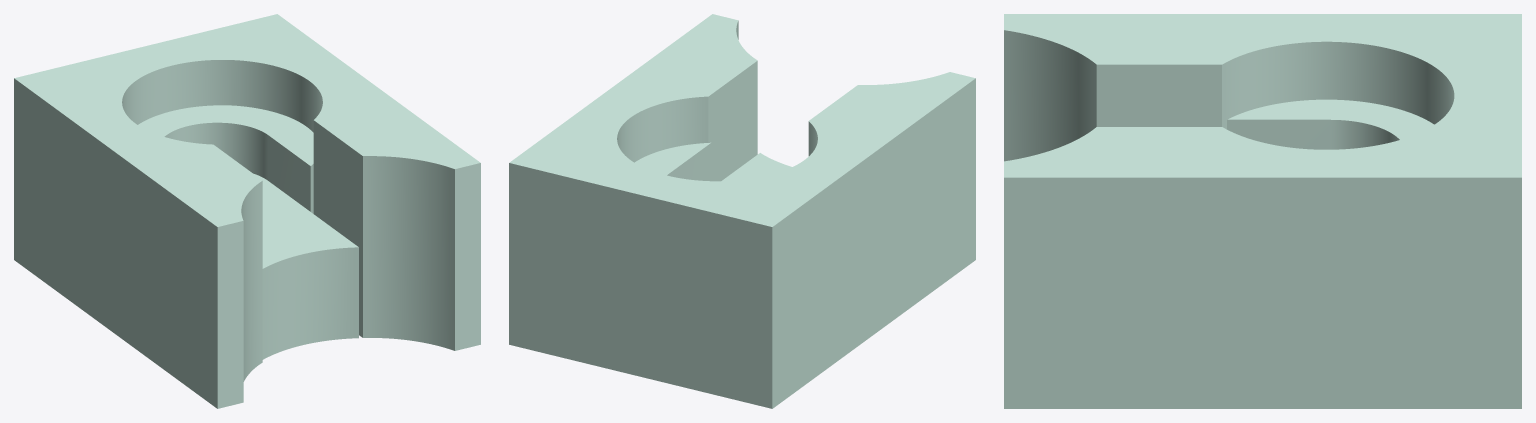
The picture shows the model from 3 angles, left to right: view 1: azimuth 30°, elevation 25°; view 2: azimuth 150°, elevation 25°; view 3: azimuth 270°, elevation 25°; orthographic projection. The views are drawn at different scales.
Parts seen in each view (by area): view 1: Renderer Node; view 2: Renderer Node; view 3: Renderer Node.
Part boxes in pixels (x1,y1,x2,y2): Renderer Node: [14, 14, 480, 408]; Renderer Node: [509, 14, 975, 408]; Renderer Node: [1004, 14, 1521, 408].
Bounding box in the file's own units: 0.4262 × 0.2813 × 0.5703.
